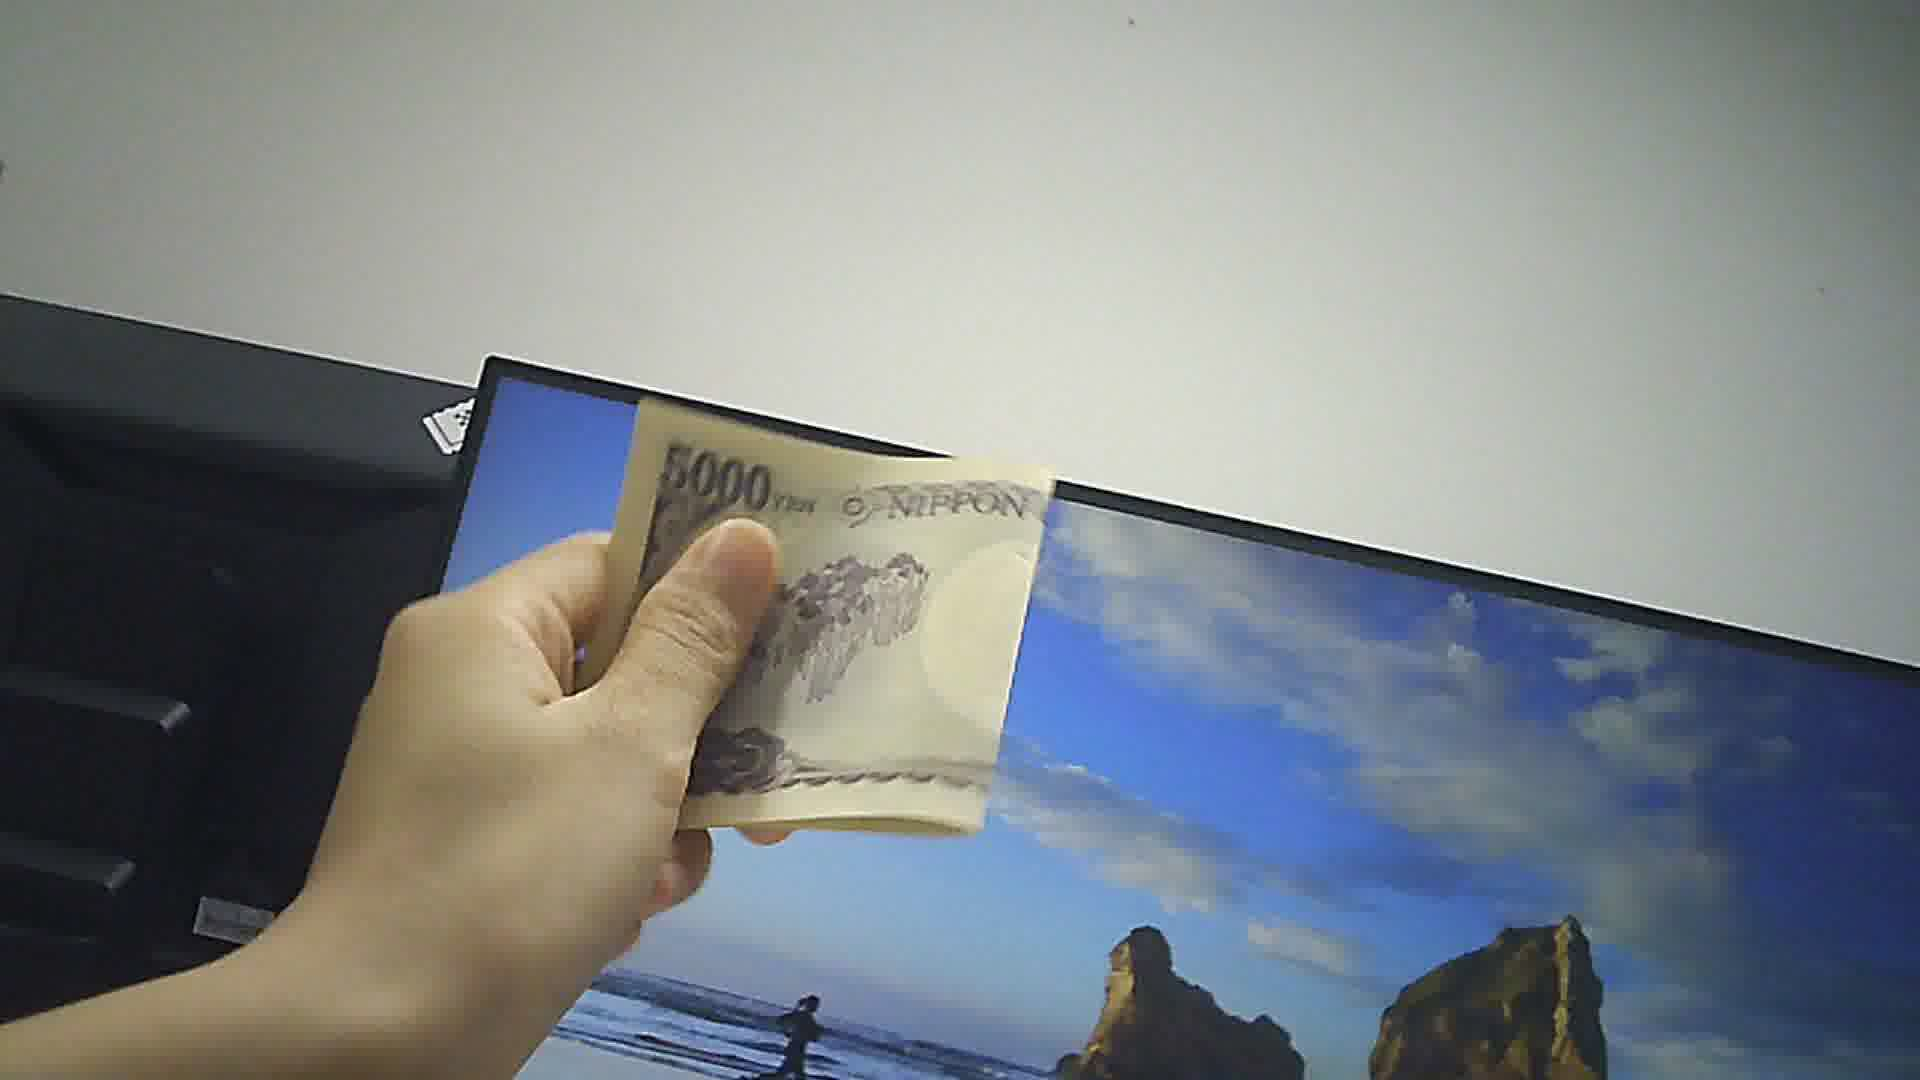5,000 Yen: (574, 373, 1072, 866)
